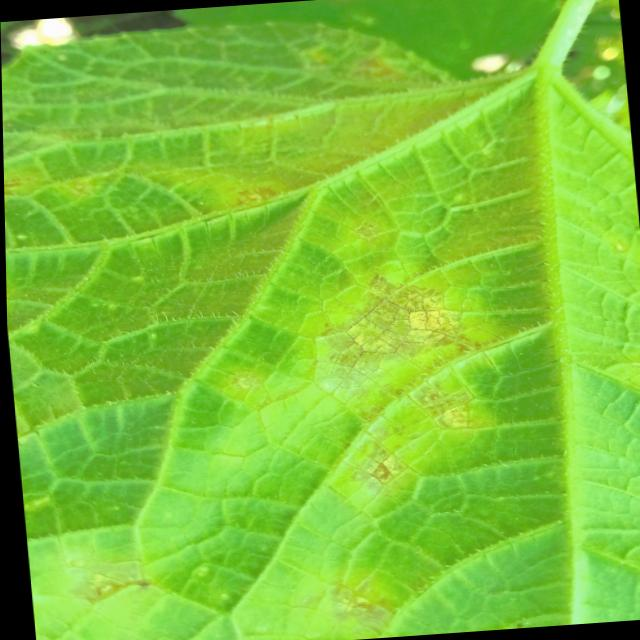Downy-Mildew: (1, 23, 514, 640), (596, 231, 640, 402)
